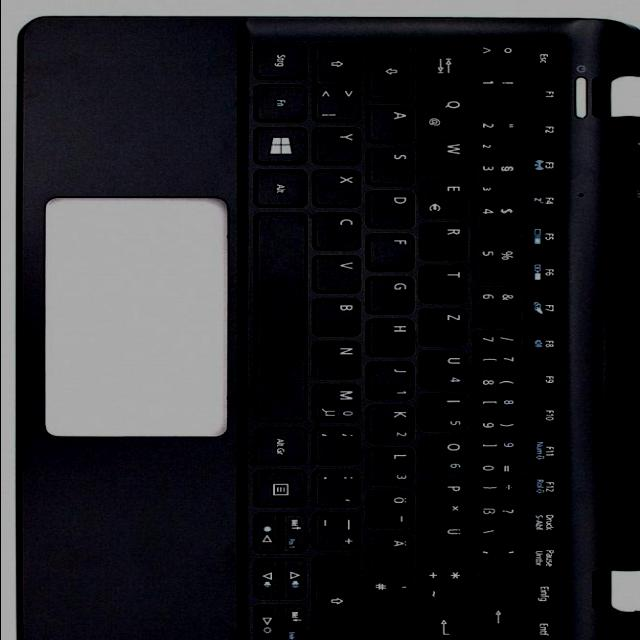0: (473, 459, 521, 497)
1: (473, 74, 521, 112)
2: (474, 116, 522, 154)
3: (472, 158, 522, 196)
4: (473, 201, 521, 239)
5: (473, 244, 521, 282)
6: (474, 287, 521, 325)
7: (473, 330, 521, 368)
8: (473, 373, 521, 411)
9: (472, 416, 522, 454)
a: (366, 105, 415, 143)
accent: (474, 543, 522, 581)
ae: (366, 532, 415, 572)
alt-left: (253, 168, 307, 208)
altgr-right: (255, 427, 307, 465)
b: (312, 296, 362, 336)
c: (312, 212, 363, 250)
caret: (474, 41, 520, 69)
comma: (313, 425, 361, 465)
d: (365, 189, 416, 229)
del: (473, 585, 521, 640)
e: (419, 180, 468, 218)
enter: (365, 607, 469, 640)
f: (366, 232, 415, 270)
g: (366, 274, 415, 314)
h: (365, 318, 416, 358)
hash: (365, 575, 415, 613)
i: (420, 394, 469, 432)
j: (366, 361, 415, 399)
k: (366, 404, 415, 442)
keyboard: (235, 30, 571, 640)
l: (365, 447, 416, 485)
less: (312, 86, 362, 122)
m: (311, 383, 362, 423)
minus: (312, 511, 362, 551)
n: (312, 339, 362, 379)
o: (420, 436, 470, 474)
oe: (365, 489, 415, 529)
p: (420, 479, 469, 519)
plus: (420, 565, 469, 603)
point: (312, 469, 363, 507)
q: (420, 93, 469, 133)
r: (420, 222, 469, 260)
s: (366, 147, 415, 185)
shift-left: (312, 41, 362, 85)
shift-lock: (366, 40, 414, 101)
shift-right: (312, 554, 363, 640)
space: (253, 211, 309, 422)
ss: (473, 500, 522, 539)
strg-left: (253, 40, 309, 80)
t: (419, 265, 469, 303)
tab: (420, 41, 469, 91)
u: (419, 349, 469, 389)
ue: (419, 521, 469, 561)
v: (313, 255, 362, 293)
w: (421, 137, 469, 175)
x: (312, 169, 362, 207)
y: (313, 127, 362, 165)
z: (420, 307, 469, 345)
